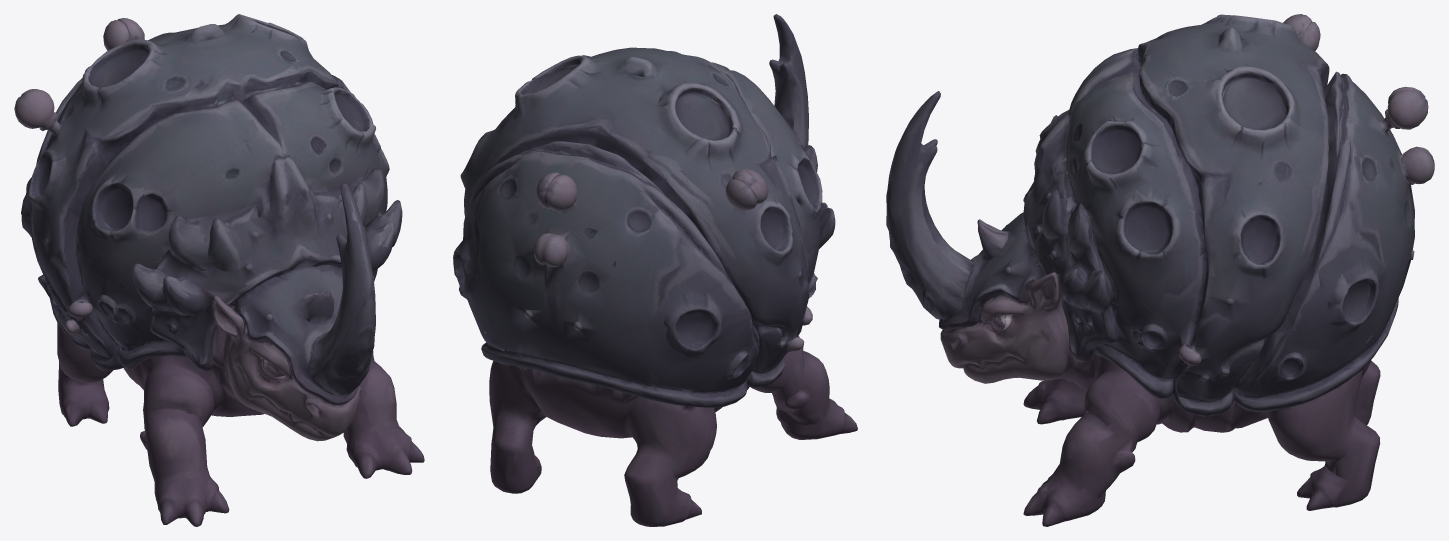
3 renders of one model, left to right at view 1: azimuth 30°, elevation 25°; view 2: azimuth 150°, elevation 25°; view 3: azimuth 270°, elevation 25°, orthographic. The views are drawn at different scales.
Visible parts, largest first — view 1: Mesh_0; view 2: Mesh_0; view 3: Mesh_0.
Part boxes in pixels (x1,y1,x2,y2): Mesh_0: [14, 14, 424, 526]; Mesh_0: [453, 14, 857, 526]; Mesh_0: [886, 14, 1434, 526].
Bounding box in the file's own units: 1.37 × 1.64 × 1.9.
Materials: 1 (1 with a texture image).
